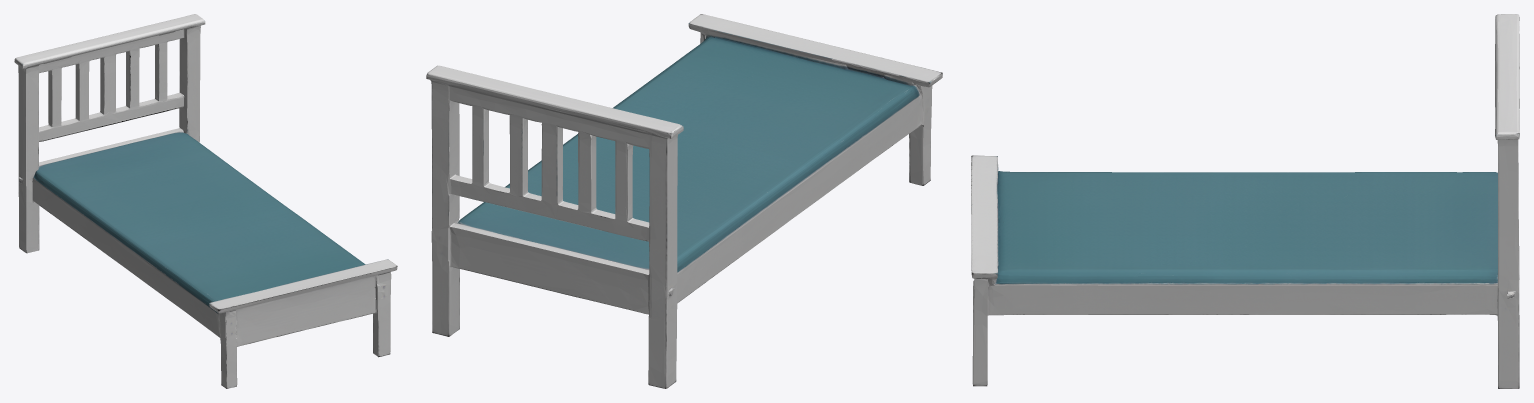
The model's file is bed_frame.glb.
3 views of the same model, side by side, from view 1: azimuth 30°, elevation 25°; view 2: azimuth 150°, elevation 25°; view 3: azimuth 270°, elevation 25° (orthographic). The views are drawn at different scales.
Parts seen in each view (by area): view 1: geometry_0; view 2: geometry_0; view 3: geometry_0.
Part boxes in pixels (x1,y1,x2,y2): geometry_0: [14, 14, 397, 388]; geometry_0: [426, 14, 942, 388]; geometry_0: [971, 14, 1519, 388].
Bounding box in the file's own units: 0.5186 × 0.5202 × 0.9979.
1 material, 1 textured.
